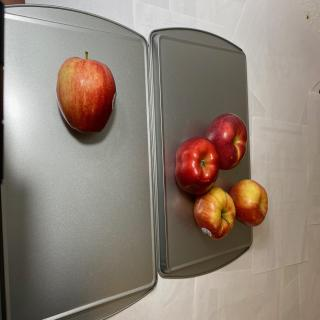Apple: (56, 51, 116, 134), (174, 136, 220, 195), (205, 113, 248, 170), (193, 186, 236, 240), (229, 179, 268, 227)
